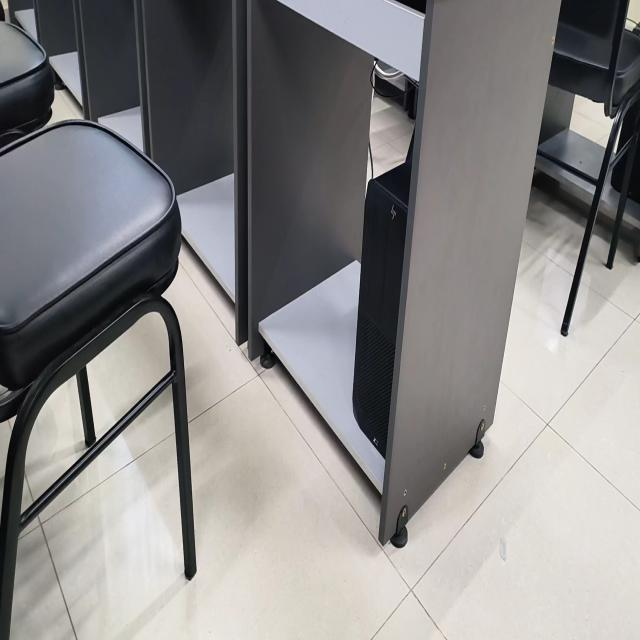Chair: (0, 120, 196, 639), (537, 0, 640, 335), (0, 21, 54, 147)
Cpu: (352, 132, 414, 457), (612, 103, 639, 205)
